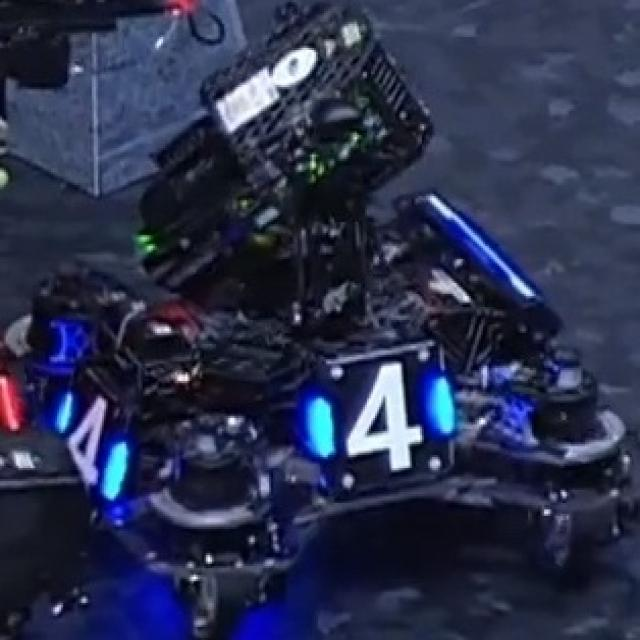B4: (310, 364, 452, 470), (59, 370, 133, 509)
